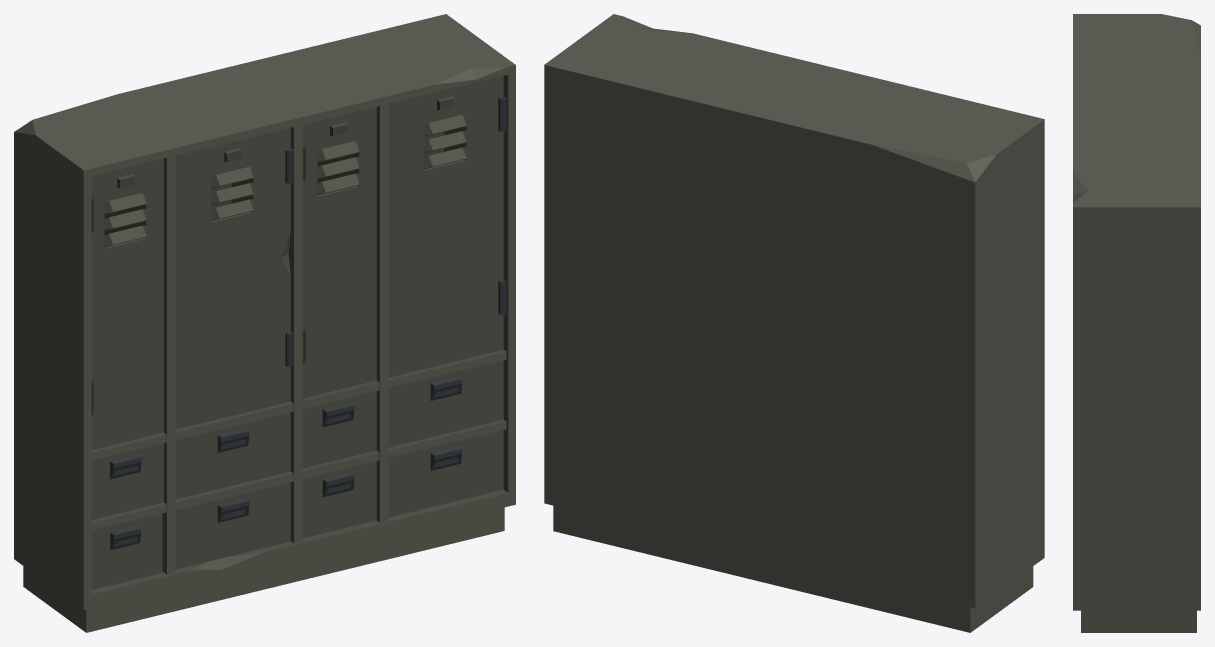
Rendered from SM_Prop_Lockers_01.fbx.
3 views of the same model, side by side, from view 1: azimuth 30°, elevation 25°; view 2: azimuth 150°, elevation 25°; view 3: azimuth 270°, elevation 25° (orthographic). The views are drawn at different scales.
Visible parts, largest first — view 1: SM_Prop_Lockers_01, SM_Prop_Lockers_Door_03, SM_Prop_Lockers_Door_01, SM_Prop_Lockers_Door_04, SM_Prop_Lockers_Door_02, SM_Prop_Lockers_Drawer_08, SM_Prop_Lockers_Drawer_03, SM_Prop_Lockers_Drawer_07, SM_Prop_Lockers_Drawer_04, SM_Prop_Lockers_Drawer_05, SM_Prop_Lockers_Drawer_06, SM_Prop_Lockers_Drawer_01 (+1 smaller); view 2: SM_Prop_Lockers_01; view 3: SM_Prop_Lockers_01.
Part boxes in pixels (bbox=[...]): SM_Prop_Lockers_01: bbox=[14, 14, 515, 632]; SM_Prop_Lockers_Door_03: bbox=[388, 76, 503, 377]; SM_Prop_Lockers_Door_01: bbox=[175, 127, 290, 429]; SM_Prop_Lockers_Door_04: bbox=[302, 106, 376, 398]; SM_Prop_Lockers_Door_02: bbox=[91, 158, 163, 449]; SM_Prop_Lockers_Drawer_08: bbox=[388, 430, 503, 517]; SM_Prop_Lockers_Drawer_03: bbox=[175, 412, 290, 499]; SM_Prop_Lockers_Drawer_07: bbox=[388, 360, 503, 447]; SM_Prop_Lockers_Drawer_04: bbox=[175, 482, 290, 569]; SM_Prop_Lockers_Drawer_05: bbox=[302, 391, 376, 468]; SM_Prop_Lockers_Drawer_06: bbox=[302, 461, 376, 538]; SM_Prop_Lockers_Drawer_01: bbox=[91, 443, 163, 519]; SM_Prop_Lockers_01: bbox=[544, 14, 1044, 632]; SM_Prop_Lockers_01: bbox=[1073, 14, 1200, 632].
Size of the model in its own units: 220 by 228 by 61.5.
